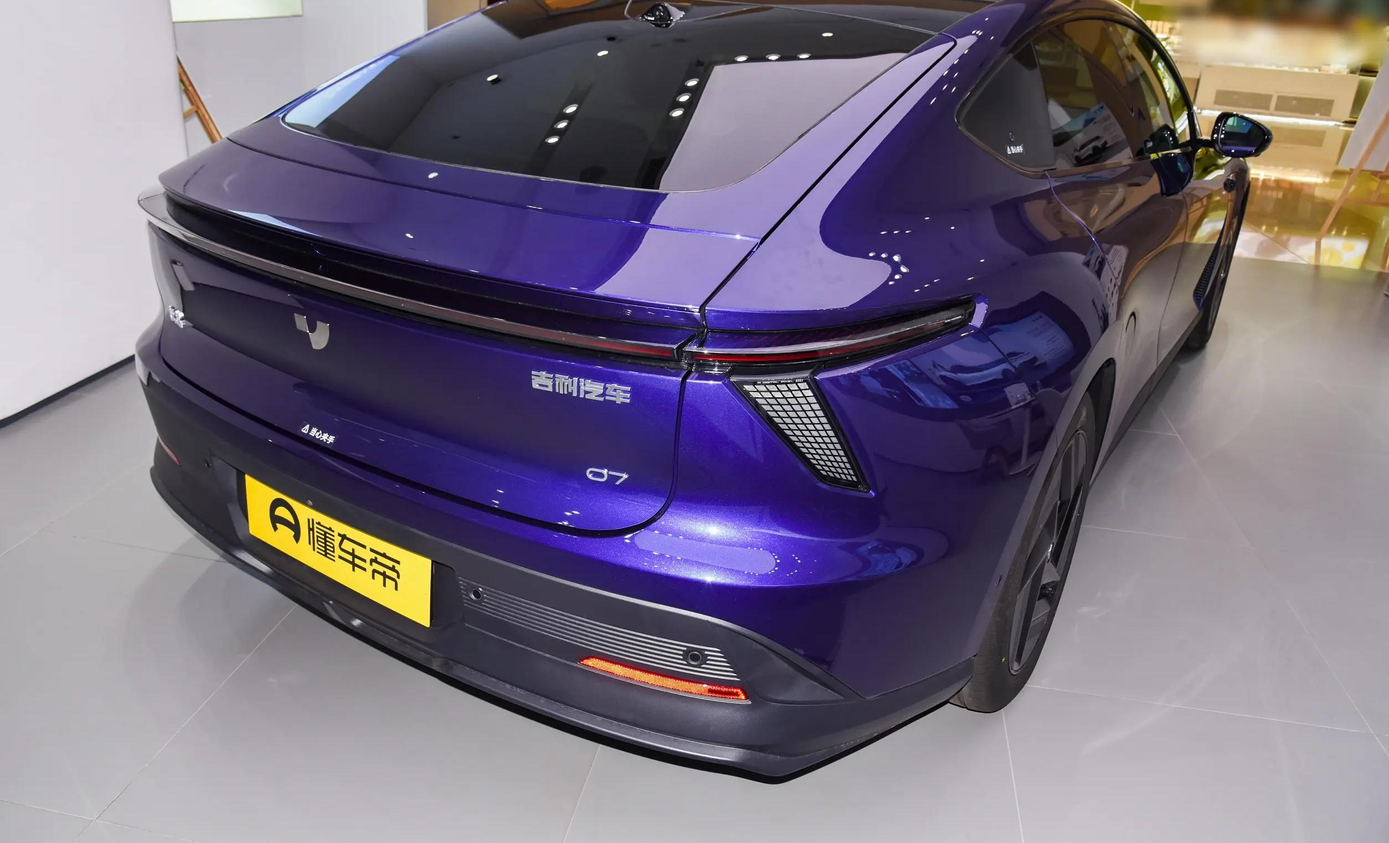JIYUE: (294, 313, 330, 351)
